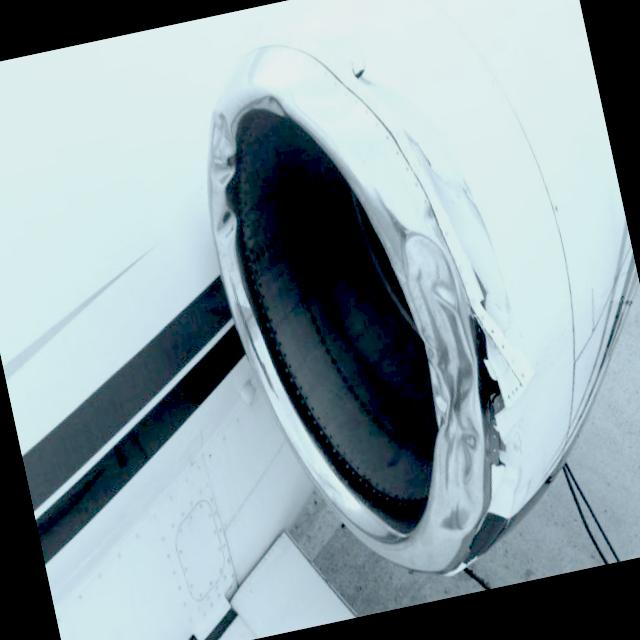dent: (391, 224, 501, 532), (187, 104, 286, 378)
